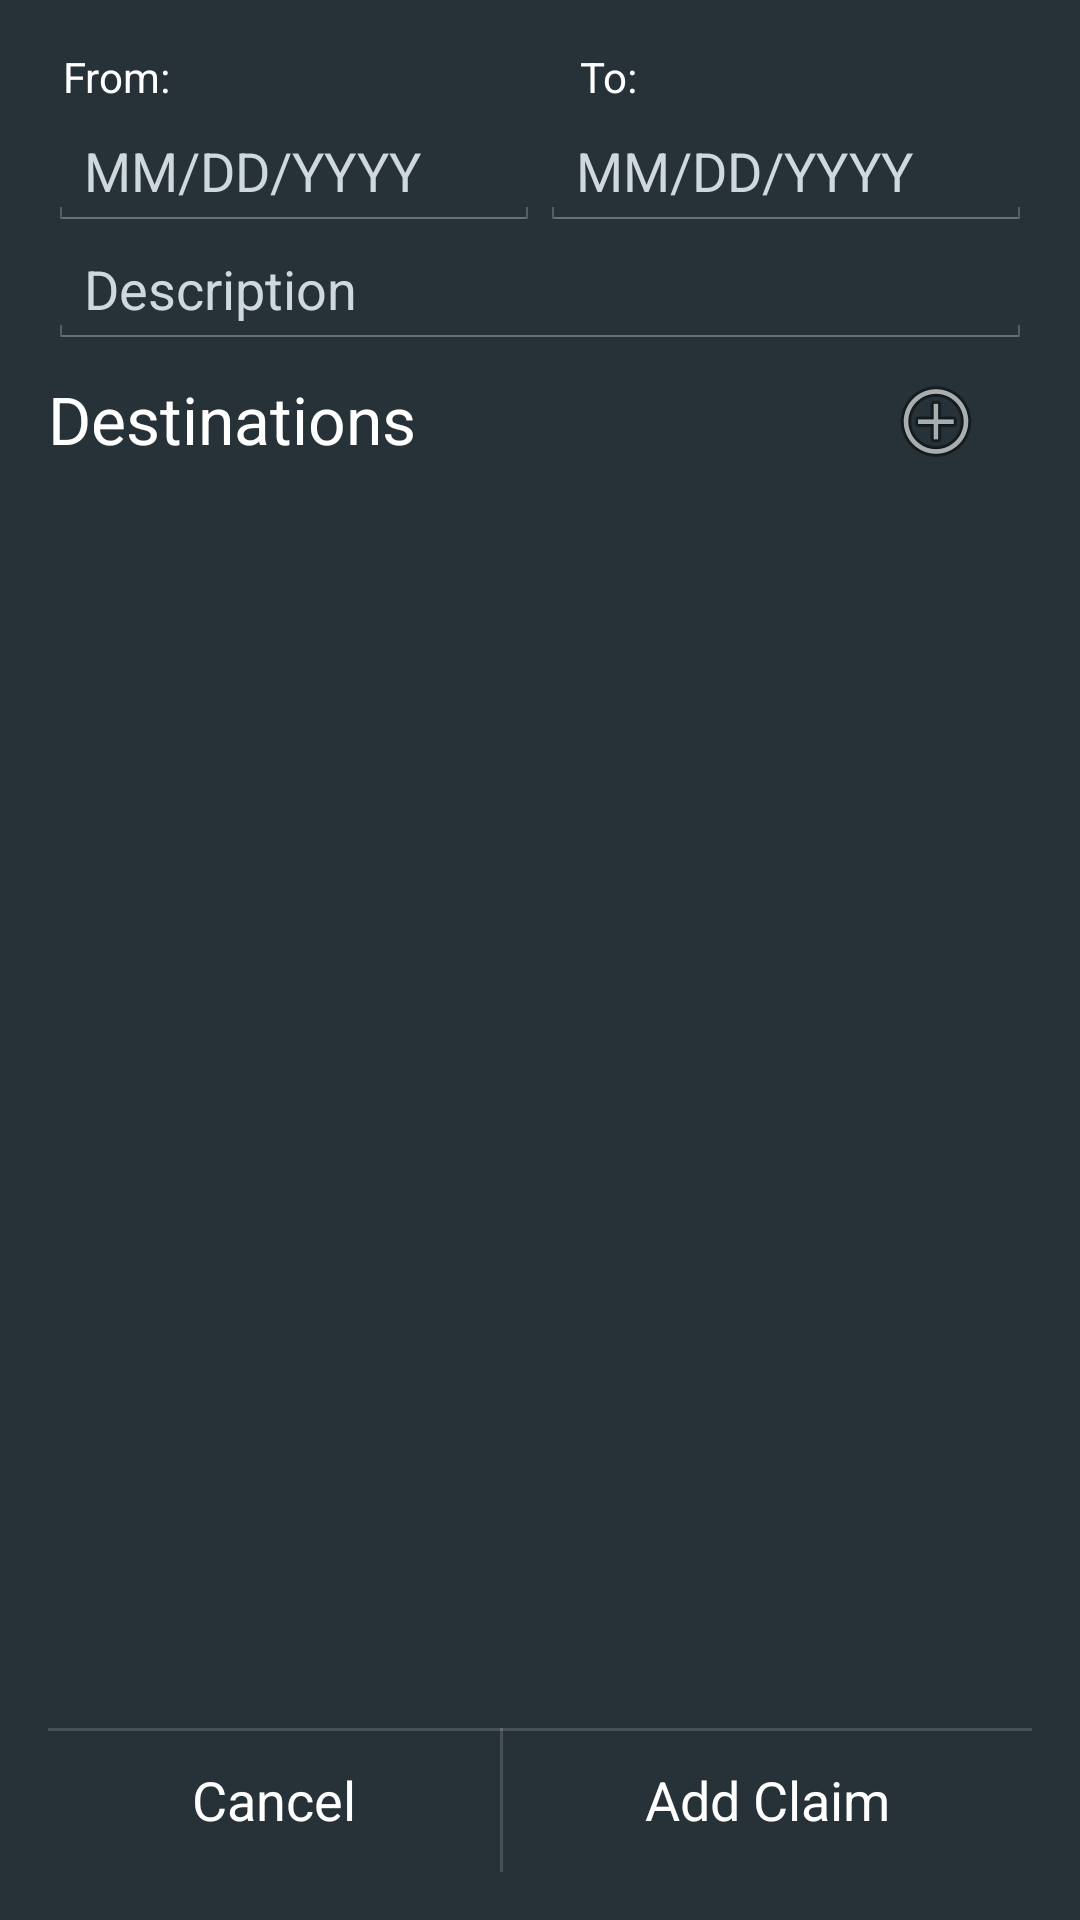

Where icons sit on this 1080px×1920px app screen, as [x1,y1,x2,y2]:
Add Destinations Button: [902,388,970,455]
